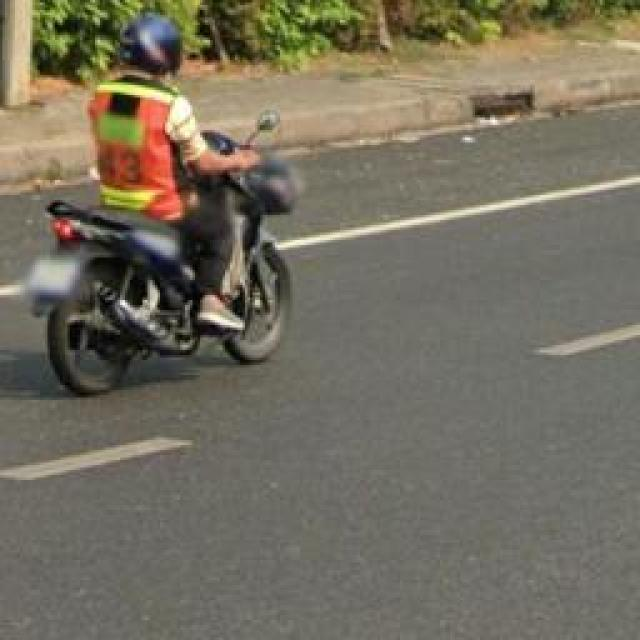Motor: (212, 110, 298, 360)
